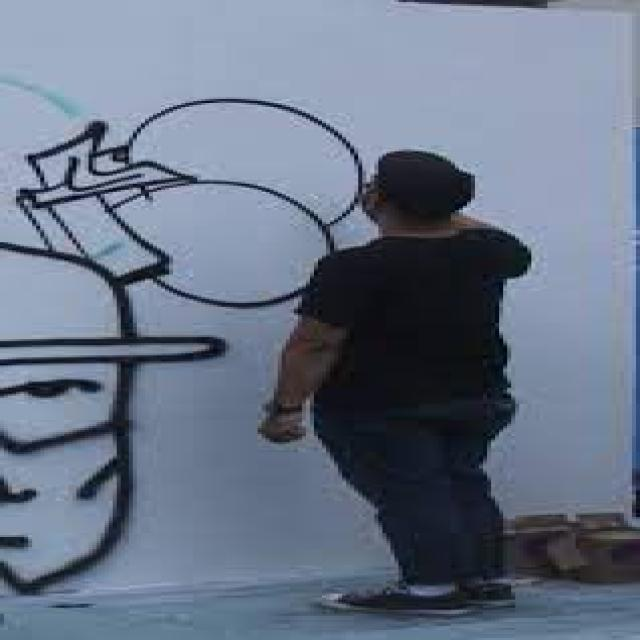-: (5, 96, 374, 594)
